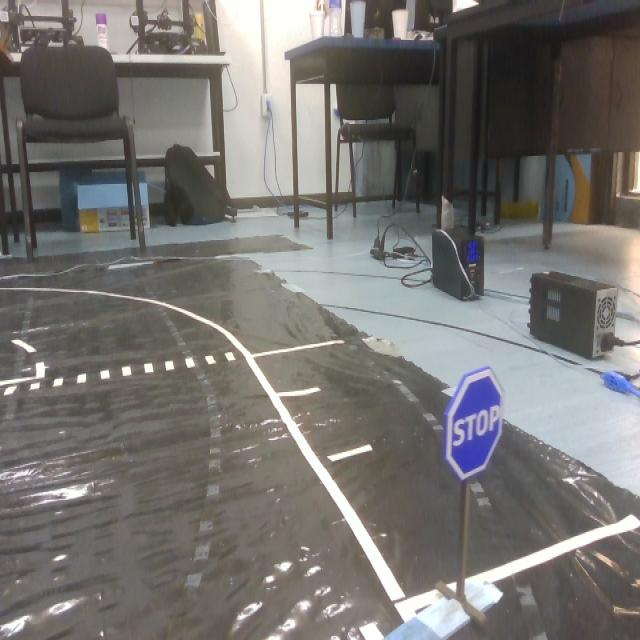no_entry: (438, 366, 516, 482)
